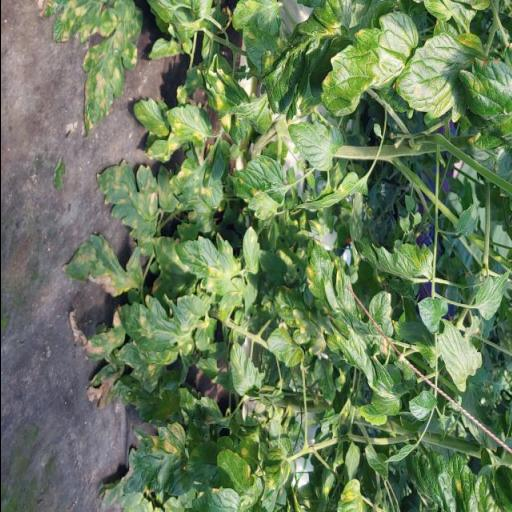Leaf Mold: (318, 11, 420, 117), (80, 0, 144, 140), (114, 294, 204, 364), (201, 68, 273, 148), (61, 230, 143, 300), (94, 158, 158, 244), (121, 422, 191, 498), (172, 232, 240, 297), (224, 156, 286, 222), (168, 154, 222, 228), (165, 104, 212, 149), (228, 341, 257, 398), (132, 96, 170, 137)
